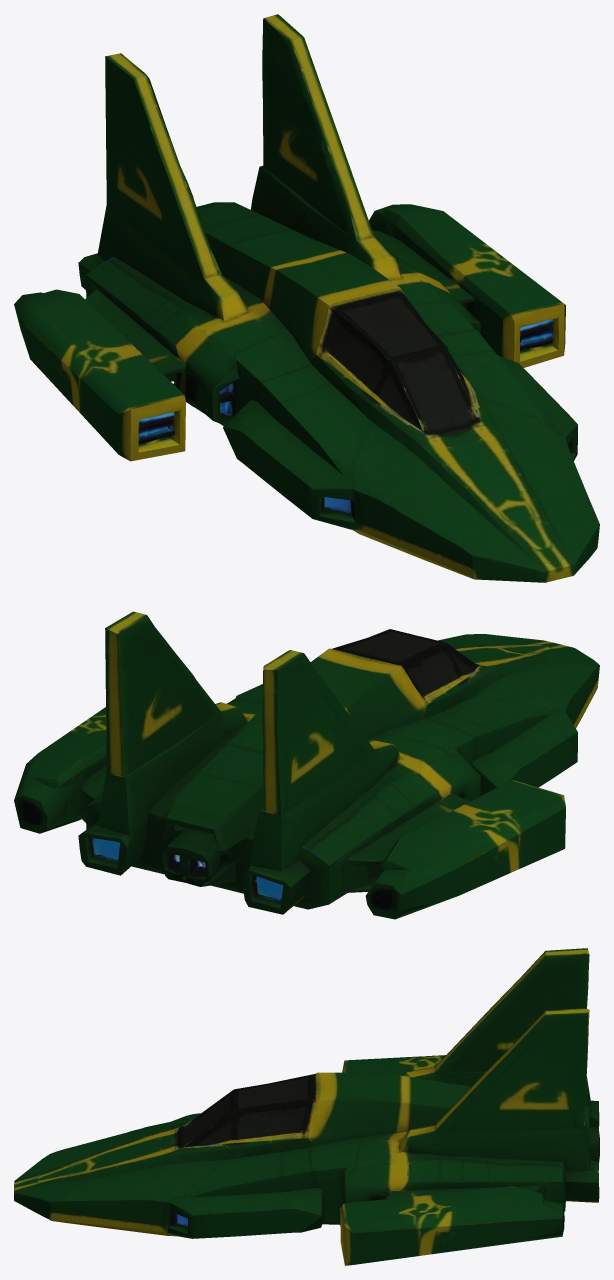
3 renders of one model, top to bottom at view 1: azimuth 30°, elevation 25°; view 2: azimuth 150°, elevation 25°; view 3: azimuth 270°, elevation 25°, orthographic. The views are drawn at different scales.
Visible parts, largest first — view 1: world; view 2: world; view 3: world.
Part boxes in pixels (x1,y1,x2,y2): world: (14, 14, 599, 582); world: (14, 611, 599, 919); world: (14, 948, 599, 1265).
Bounding box in the file's own units: 0.6902 × 0.4275 × 1.
1 material, 1 textured.
